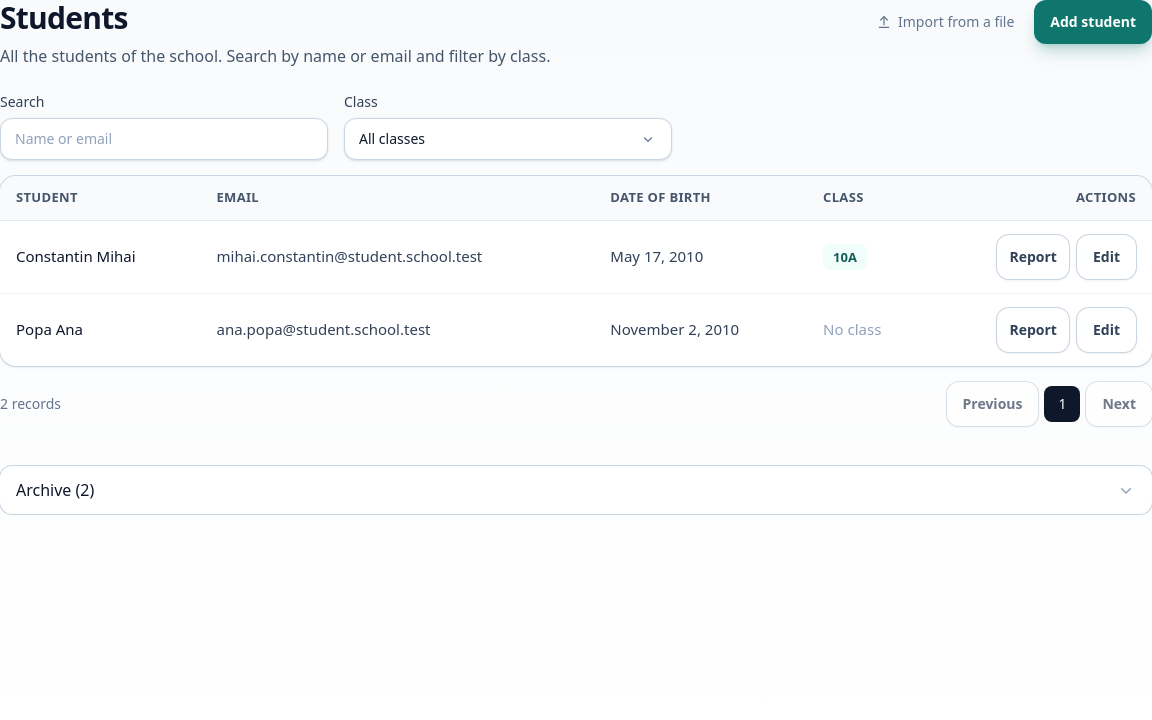
Test: AdminStudentsPage › deletes a student only after confirmation
Click the button "Edit" in the row of "Constantin Mihai": [1106, 256] box [1077,234,1136,278]
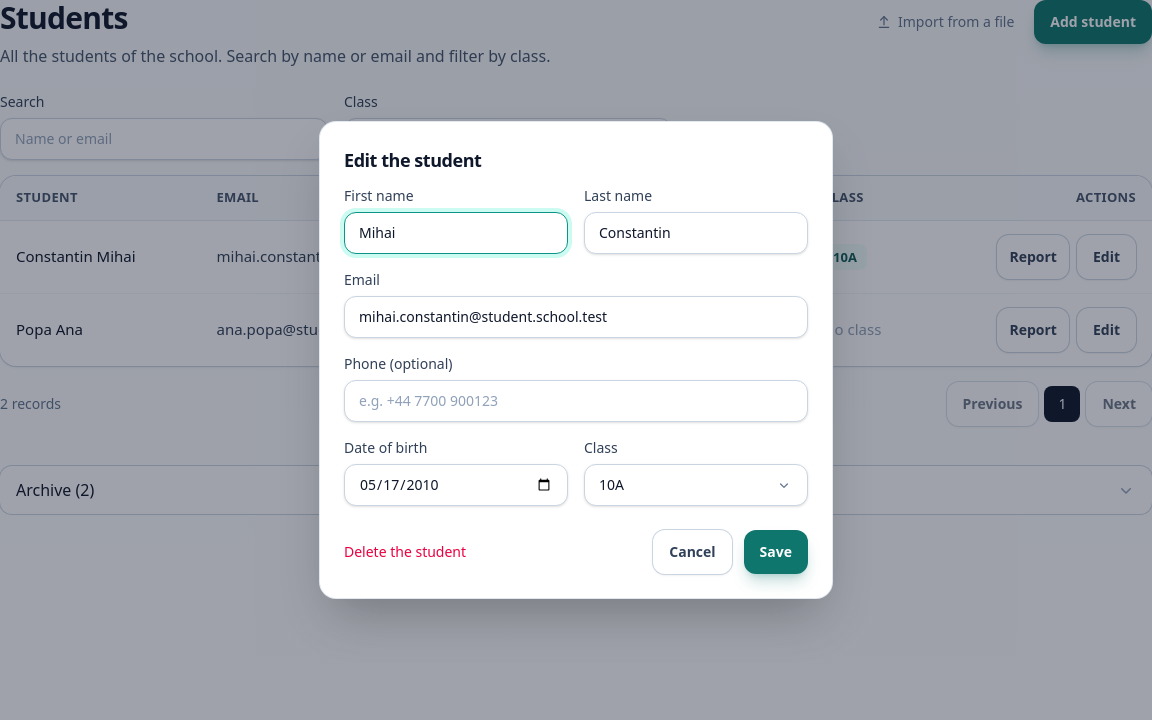
Click the button "Delete the student": [405, 552] box [344,542,466,562]
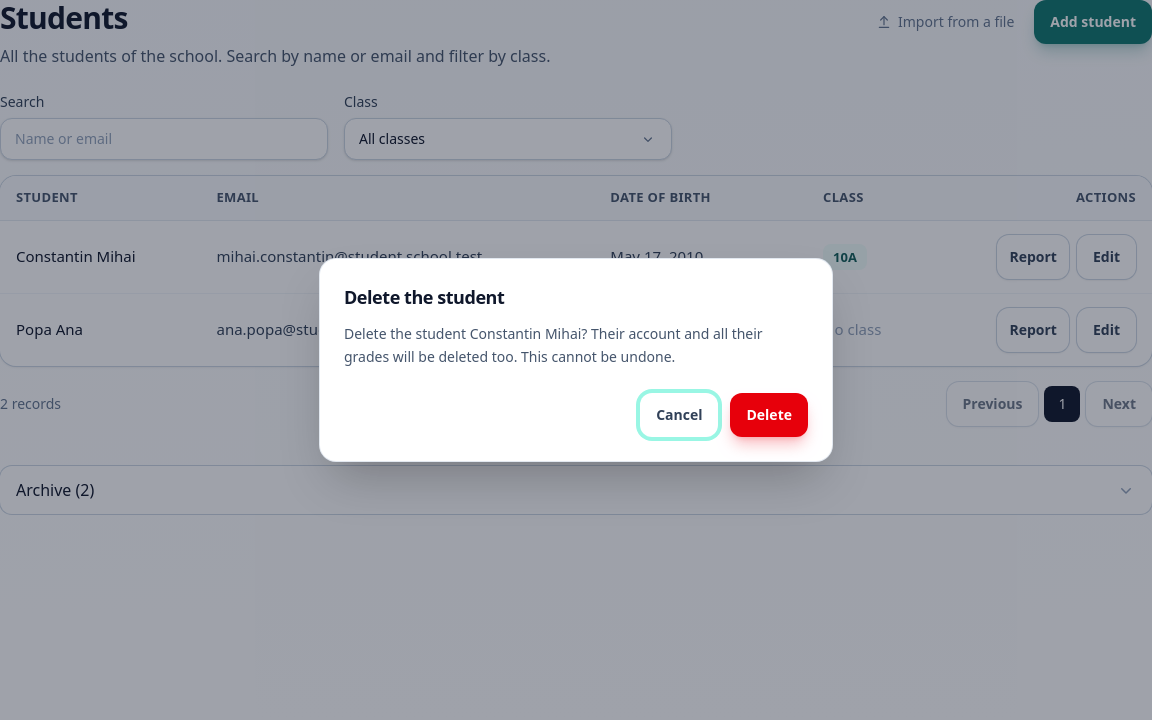
Expected: the text "Constantin Mihai" is shown, [344,324,763,366]
Click the button "Cancel": [679, 415] box [640,393,718,437]
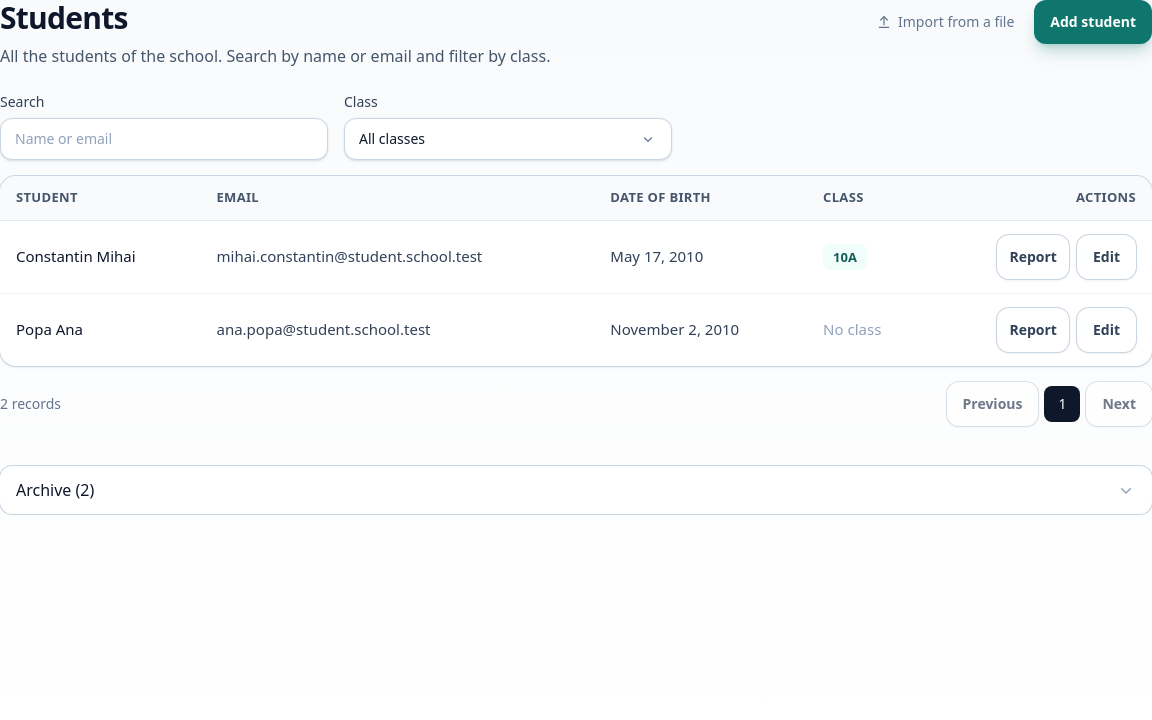
Click the button "Edit" in the row of "Constantin Mihai": [1106, 256] box [1077,234,1136,278]
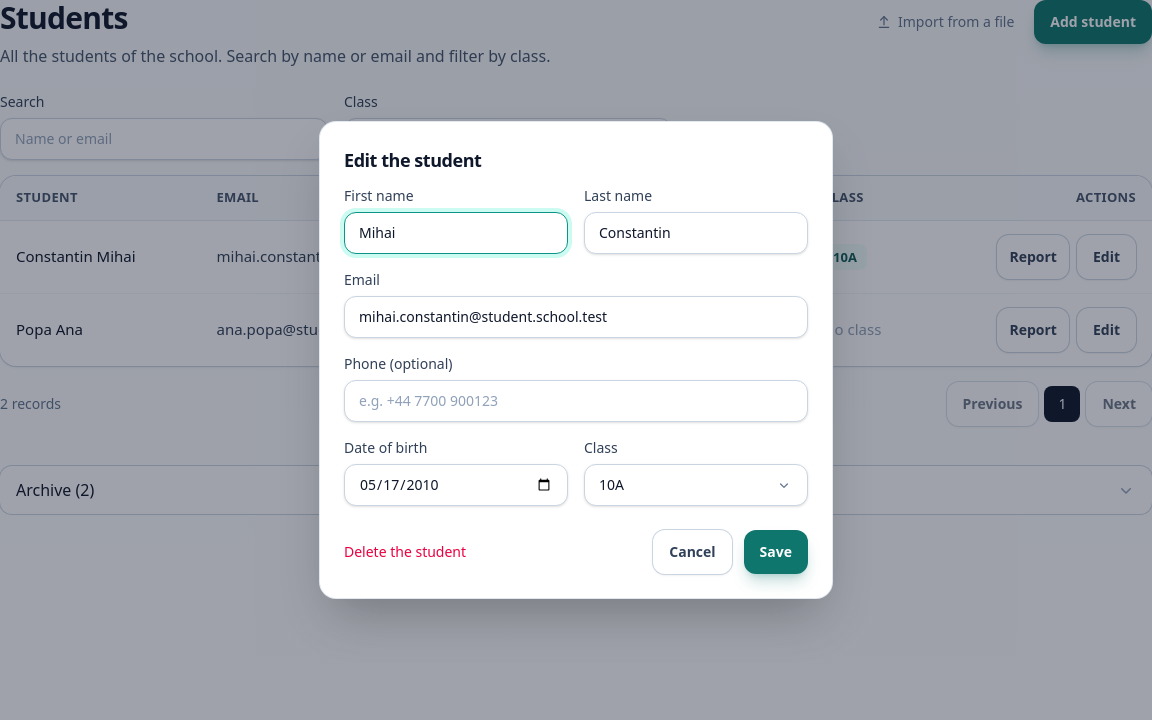
Click the button "Delete the student": [405, 552] box [344,542,466,562]
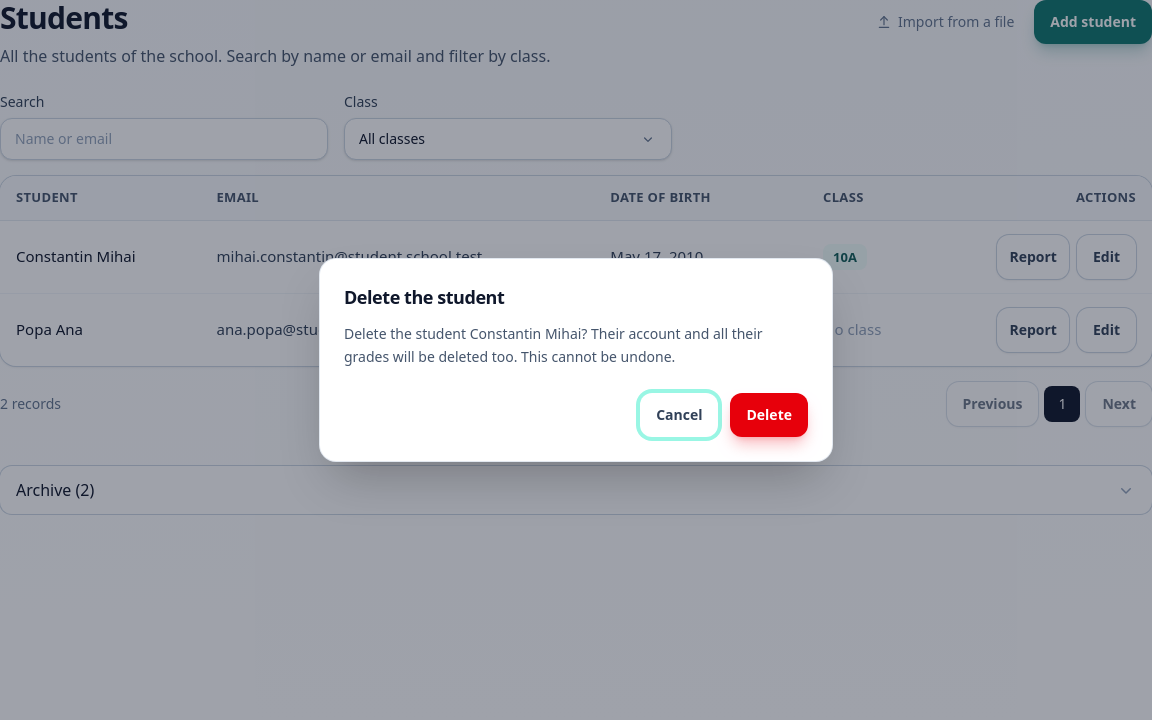
Click the button "Delete": [769, 415] box [730,393,808,437]
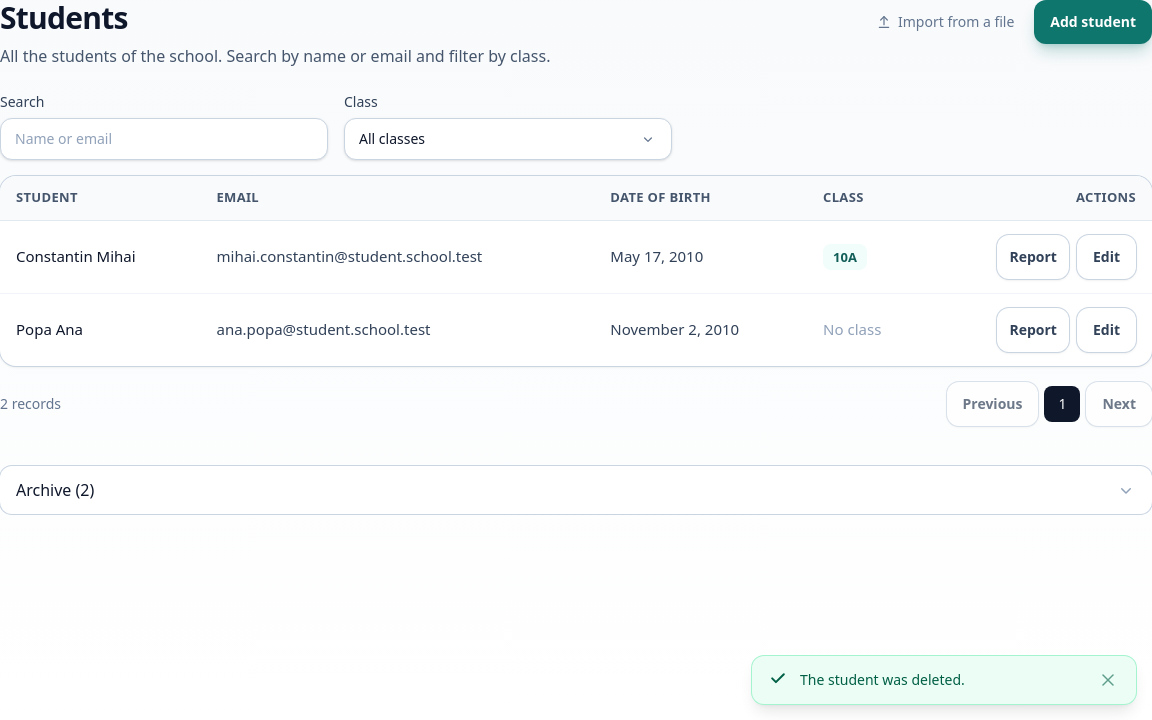
Expected: the text "The student was deleted." is shown, [800,670,965,689]
